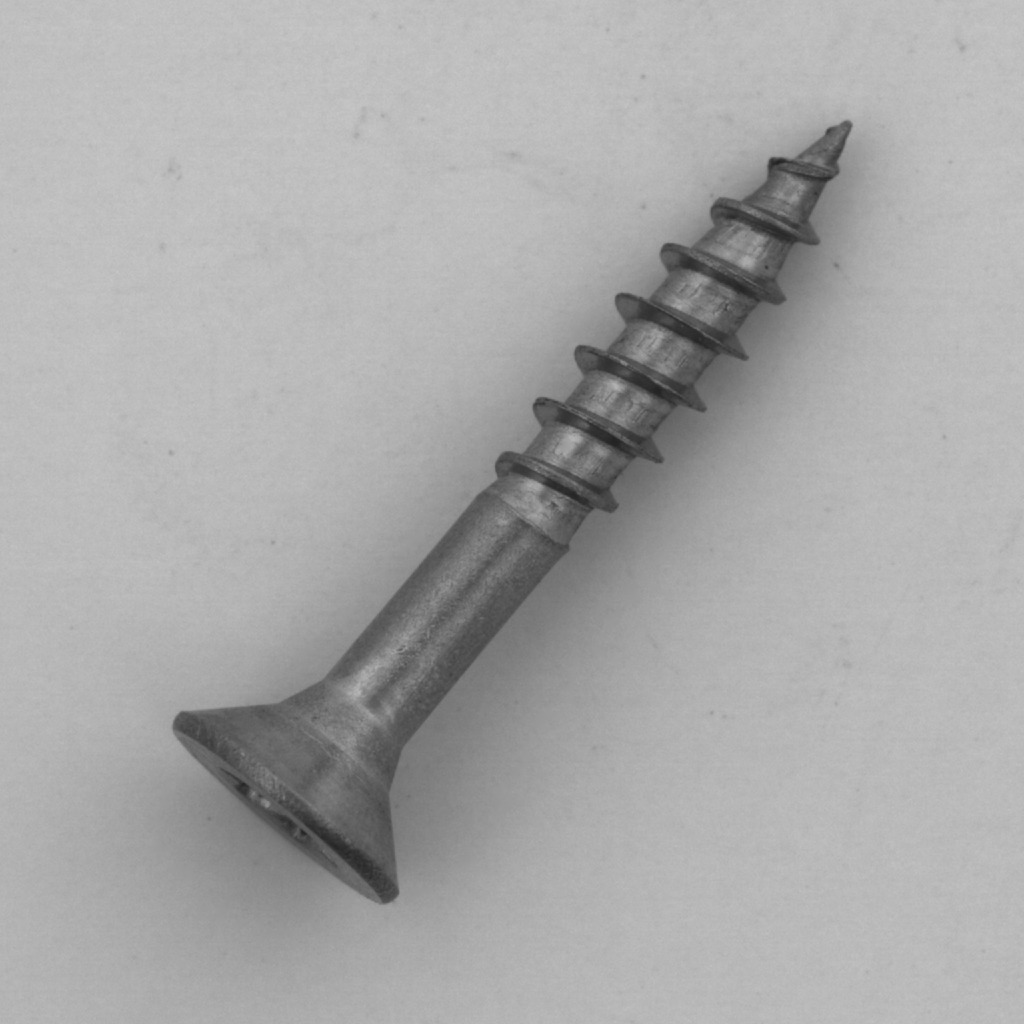good: (162, 98, 879, 922)
